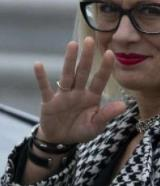down: (28, 33, 128, 149)
